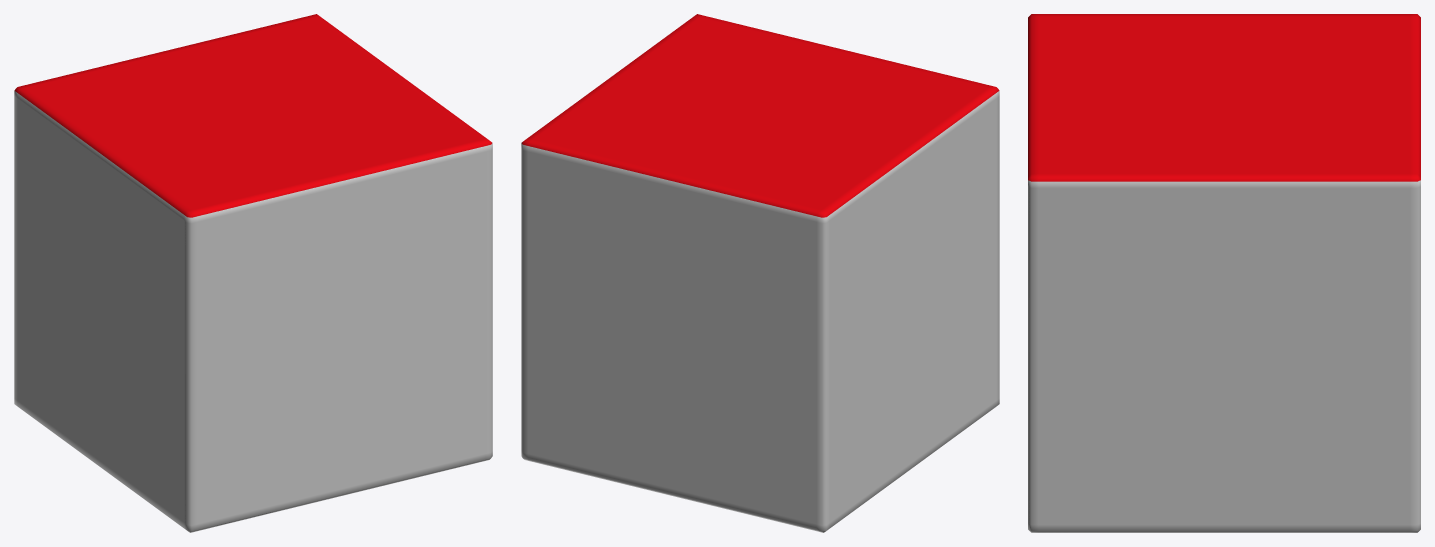
3 renders of one model, left to right at view 1: azimuth 30°, elevation 25°; view 2: azimuth 150°, elevation 25°; view 3: azimuth 270°, elevation 25°, orthographic. The views are drawn at different scales.
Parts seen in each view (by area): view 1: Cube; view 2: Cube; view 3: Cube.
Boxes of the visible parts, bbox=[...] form: Cube: bbox=[14, 14, 492, 532]; Cube: bbox=[521, 14, 999, 532]; Cube: bbox=[1028, 14, 1420, 532].
Size of the model in its own units: 10 by 10 by 10.
